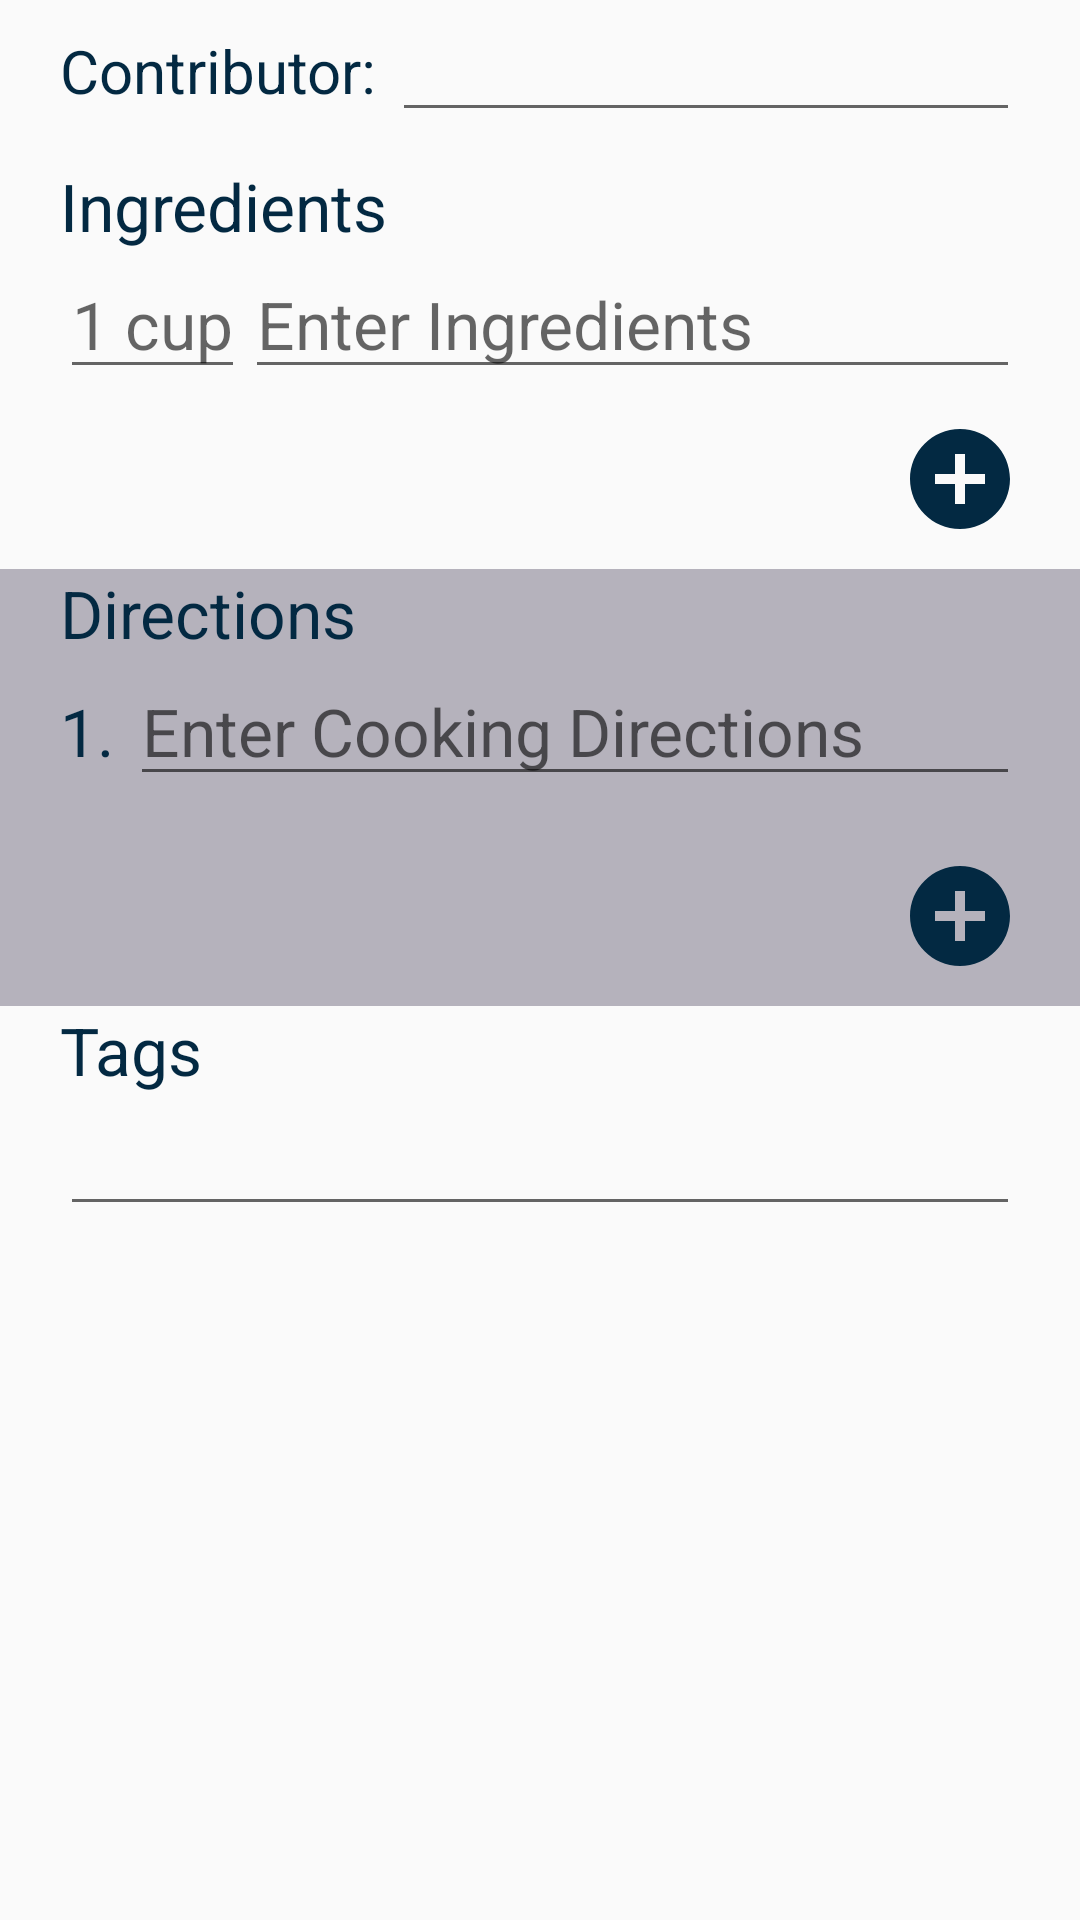

Screen size 1080px×1920px. Icon name, then its box in pixels as [x1,y1,x2,y2]:
add circle: [910,429,1010,529], [910,866,1010,966]
